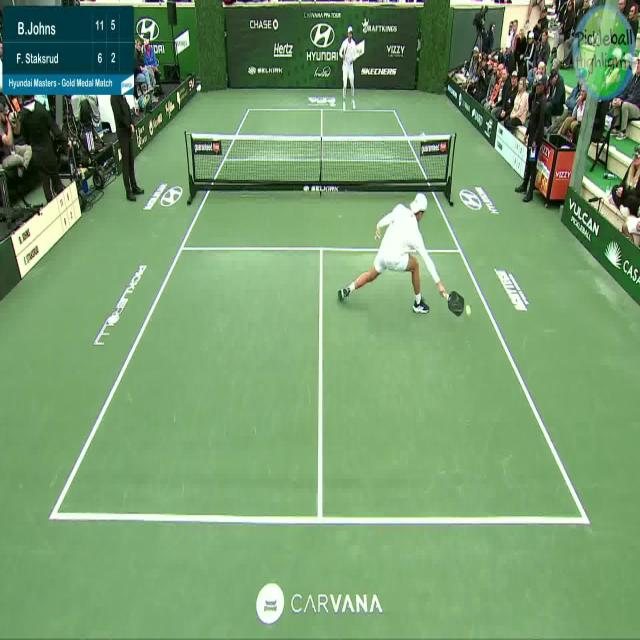ball: (463, 296, 470, 316)
